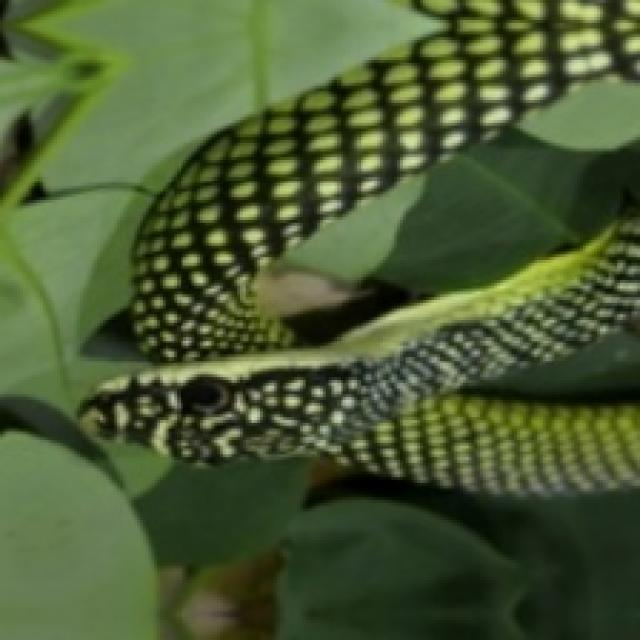paradise tree snake: (83, 0, 637, 491)
